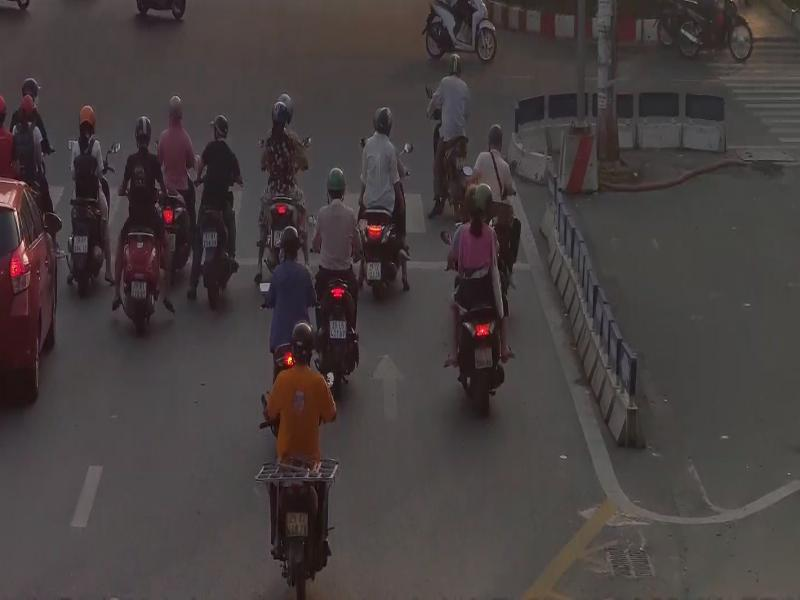helmet: (292, 324, 314, 361), (326, 166, 347, 199), (474, 183, 494, 216), (208, 115, 231, 142), (278, 226, 300, 248), (136, 115, 152, 144), (272, 100, 288, 129), (78, 108, 97, 132), (280, 92, 294, 123), (464, 184, 476, 217), (22, 76, 41, 96), (378, 107, 394, 130), (448, 52, 462, 77), (489, 125, 503, 150), (20, 95, 37, 114), (171, 96, 182, 117)
license_plate: (287, 512, 309, 537), (475, 349, 493, 368), (131, 279, 146, 301), (73, 234, 88, 254), (367, 262, 382, 281), (203, 231, 217, 250), (331, 321, 345, 339), (456, 156, 468, 169)
motorcyclist: (262, 319, 337, 600), (451, 178, 510, 418), (117, 111, 173, 336), (313, 166, 366, 394), (358, 105, 415, 305), (64, 96, 116, 298), (195, 114, 245, 318), (159, 94, 200, 280), (426, 48, 470, 221)
